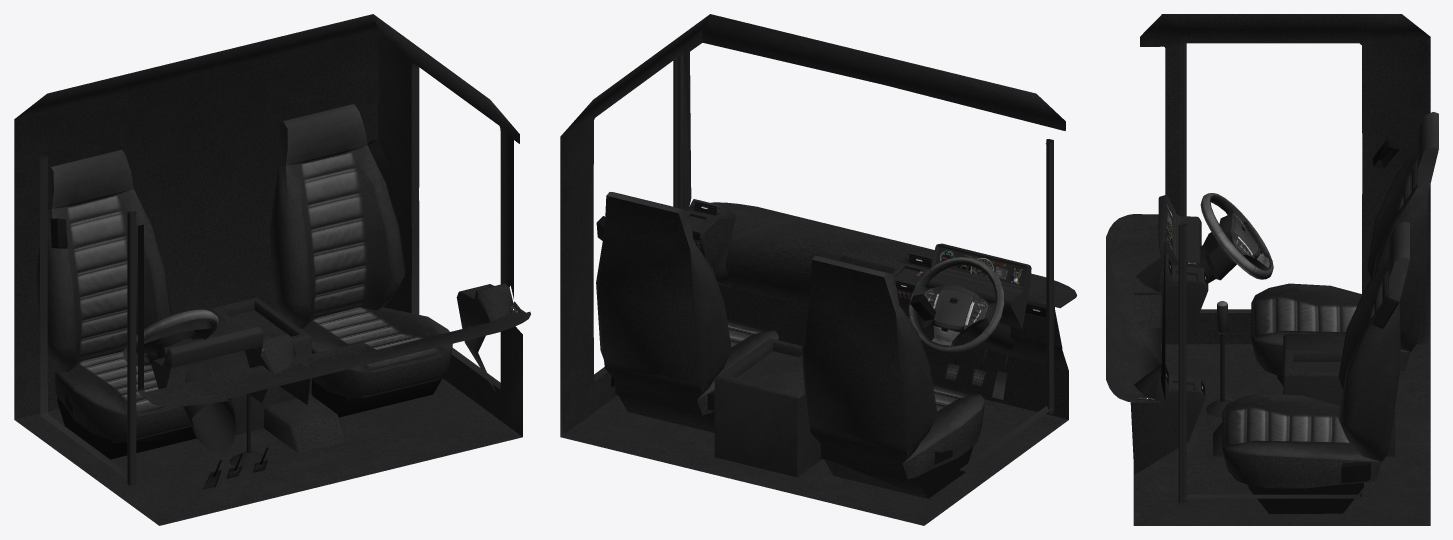
The model's file is truck DASH 1.fbx.
3 renders of one model, left to right at view 1: azimuth 30°, elevation 25°; view 2: azimuth 150°, elevation 25°; view 3: azimuth 270°, elevation 25°, orthographic. The views are drawn at different scales.
Visible parts, largest first — view 1: interior.004, interior.002, interior.001, interior.003, interior.005; view 2: interior.004, interior.002, interior.001, interior.005; view 3: interior.004, interior.002, interior.001, interior.003.
Part boxes in pixels (left/top/right/bottom): interior.004: left=14, top=14, right=530, bottom=525; interior.002: left=36, top=149, right=196, bottom=459; interior.001: left=123, top=309, right=218, bottom=366; interior.003: left=229, top=393, right=267, bottom=467; interior.005: left=203, top=447, right=268, bottom=490; interior.004: left=560, top=14, right=1076, bottom=525; interior.002: left=801, top=255, right=984, bottom=498; interior.001: left=909, top=257, right=1004, bottom=354; interior.005: left=945, top=343, right=1008, bottom=399; interior.004: left=1106, top=14, right=1430, bottom=525; interior.002: left=1251, top=112, right=1438, bottom=385; interior.001: left=1200, top=193, right=1273, bottom=279; interior.003: left=1206, top=301, right=1231, bottom=417.
Size of the model in its own units: 193 by 161 by 143.
1 material, 1 textured.
